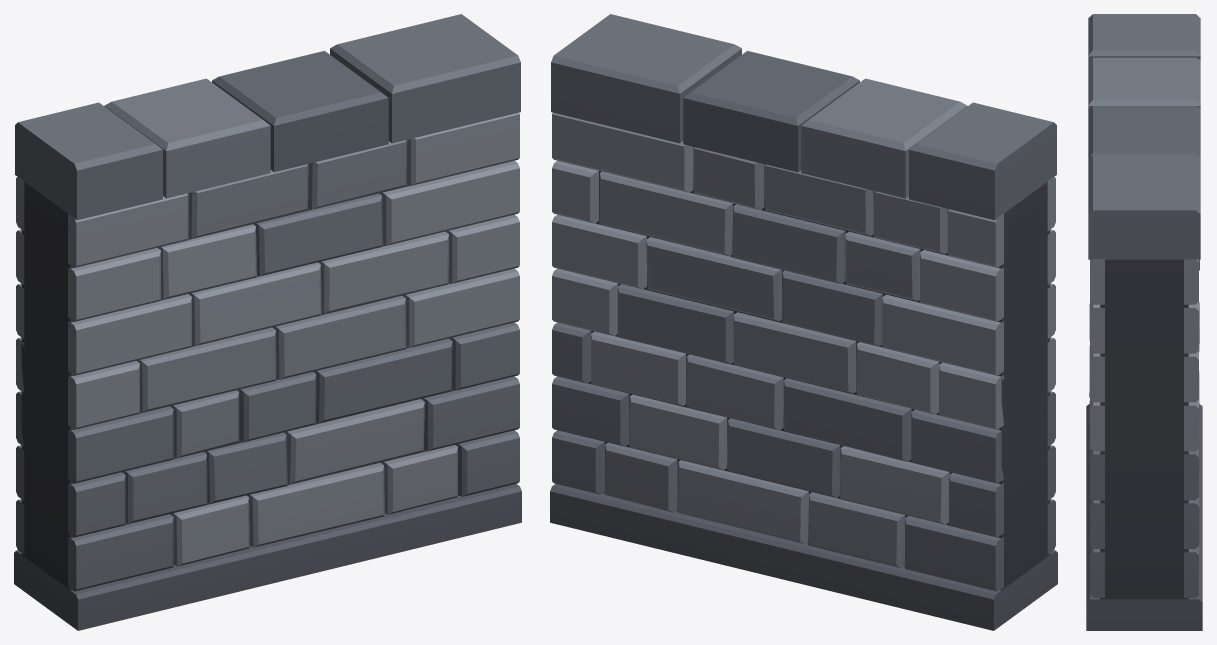
Rendered from wall_ashlar_D.glb.
3 views of the same model, side by side, from view 1: azimuth 30°, elevation 25°; view 2: azimuth 150°, elevation 25°; view 3: azimuth 270°, elevation 25° (orthographic). The views are drawn at different scales.
Parts seen in each view (by area): view 1: Item; view 2: Item; view 3: Item.
Part boxes in pixels (box(x1,y1,x2,y2)): Item: box(14, 14, 521, 630); Item: box(550, 14, 1057, 630); Item: box(1086, 14, 1202, 630).
Bounding box in the file's own units: 4 × 4 × 1.
1 material, 1 textured.
